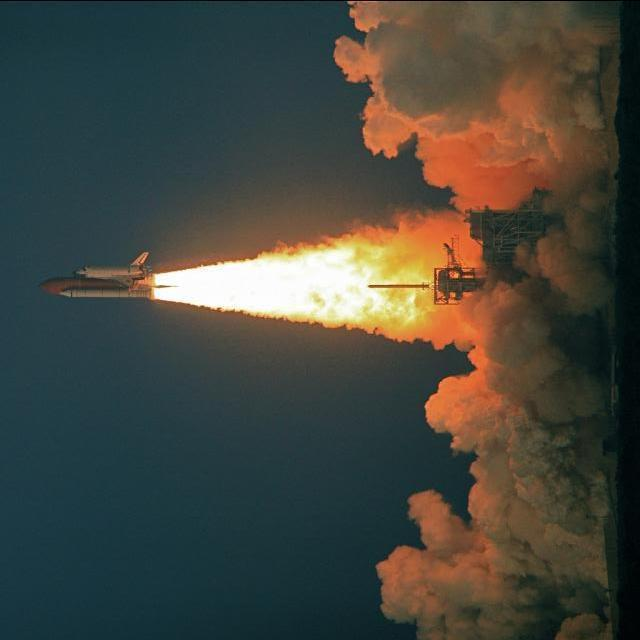missile: (40, 258, 159, 305)
